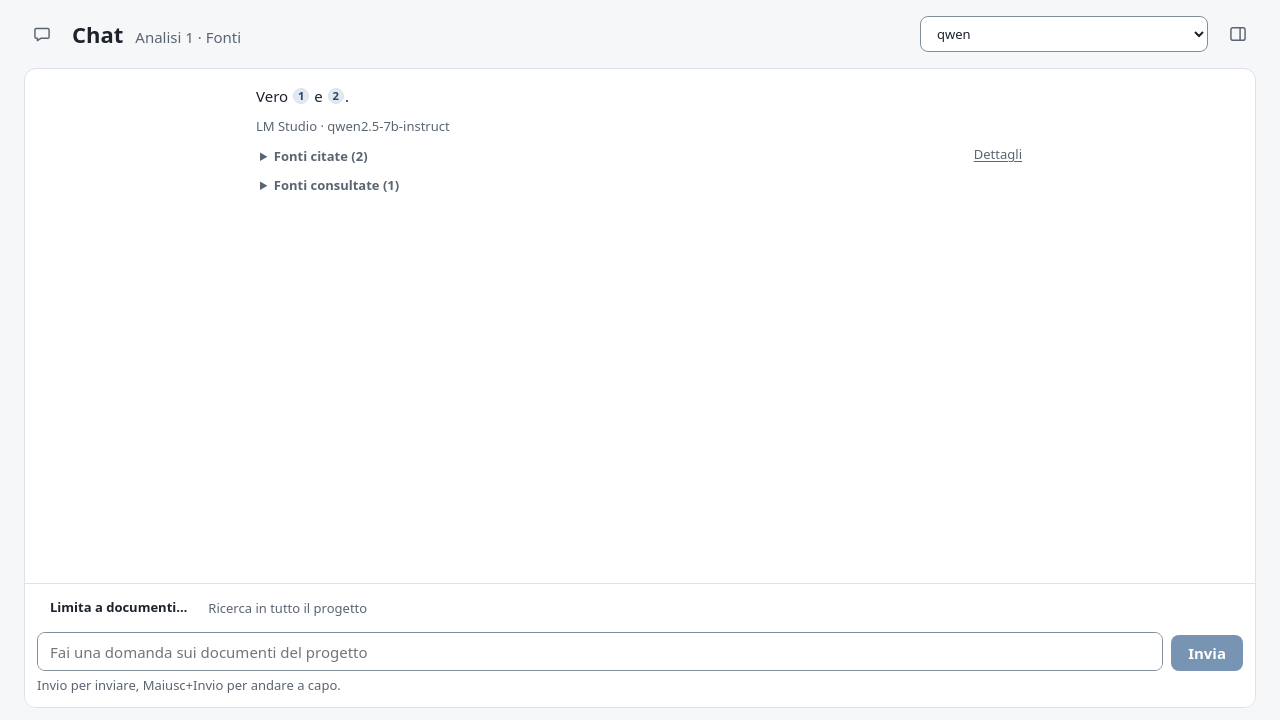
Test case: sources › are collapsed by default and separate cited from consulted
Click the heading "Fonti citate (2)" at (321,156), box [274,147,368,165]
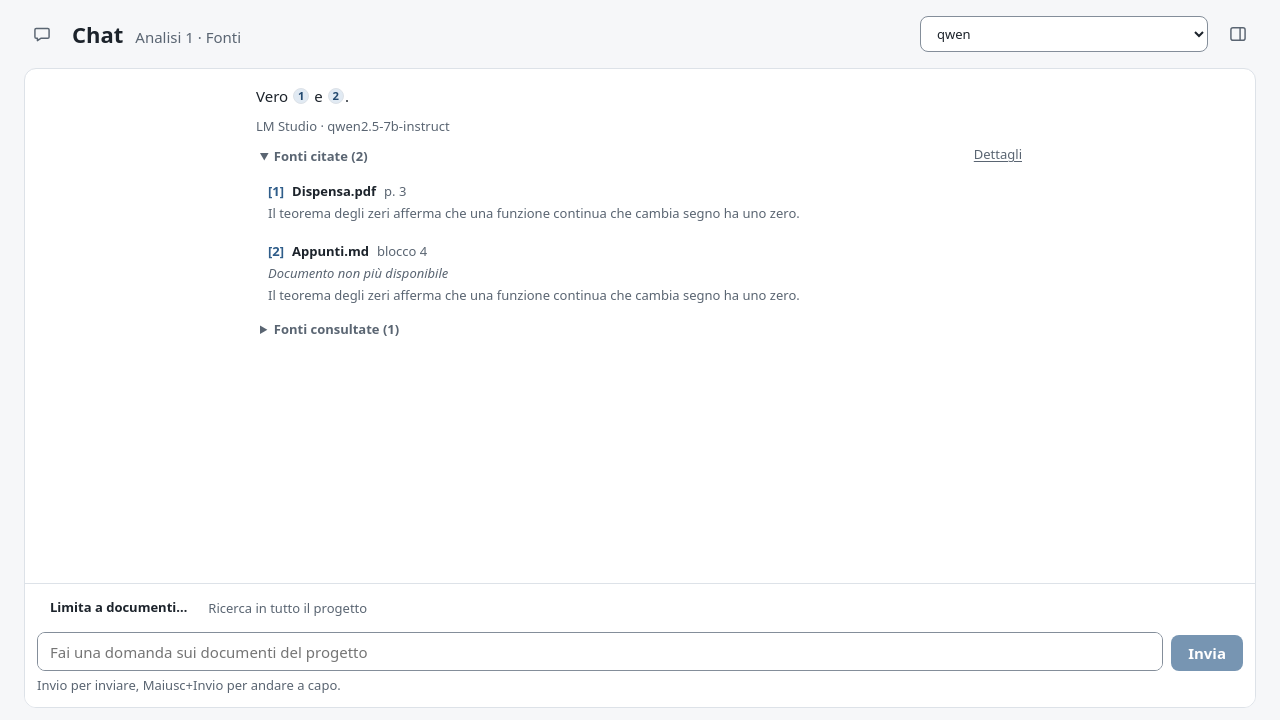
Now the text "Dispensa.pdf" is shown, box [292,180,376,201]
Now the text "Documento non più disponibile" is shown, box [268,264,448,282]
Click the heading "Fonti consultate (1)" at (330,329), box [256,317,403,341]
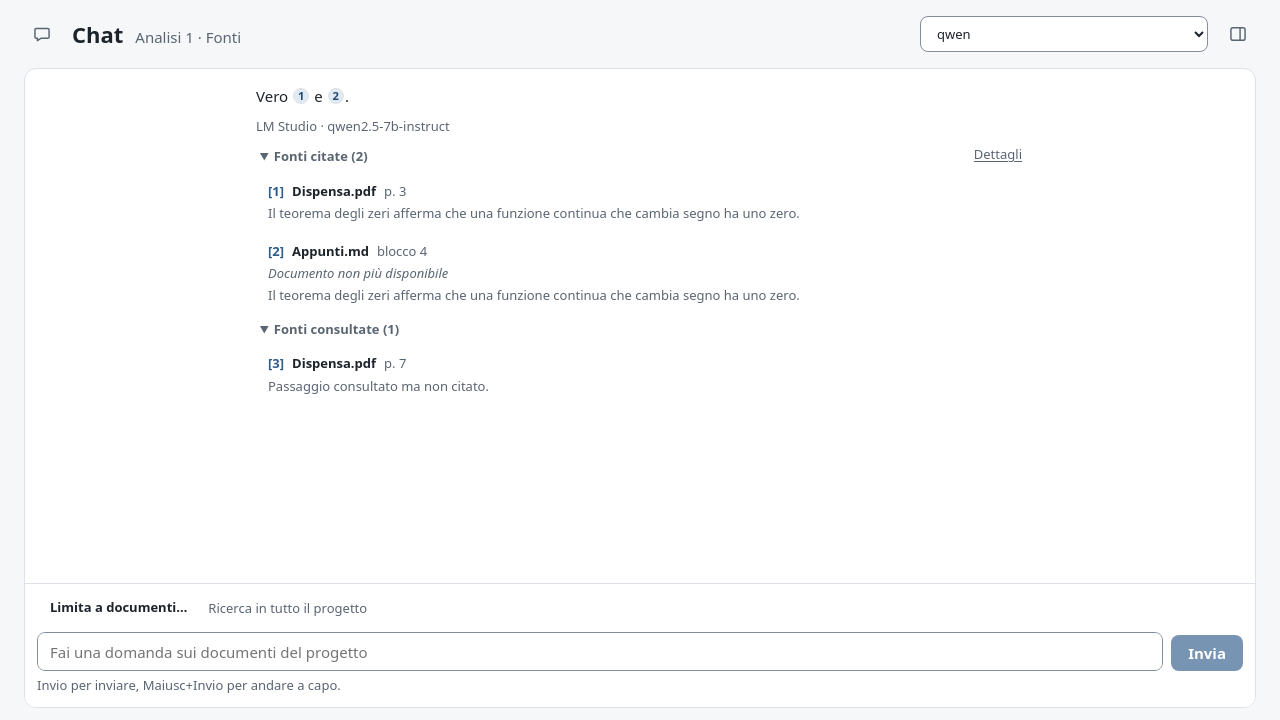
Now the text "Passaggio consultato ma non citato." is shown, box [268,376,489,396]
